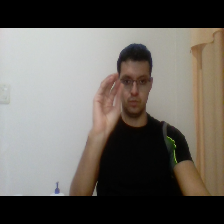left: (86, 65, 129, 144)
